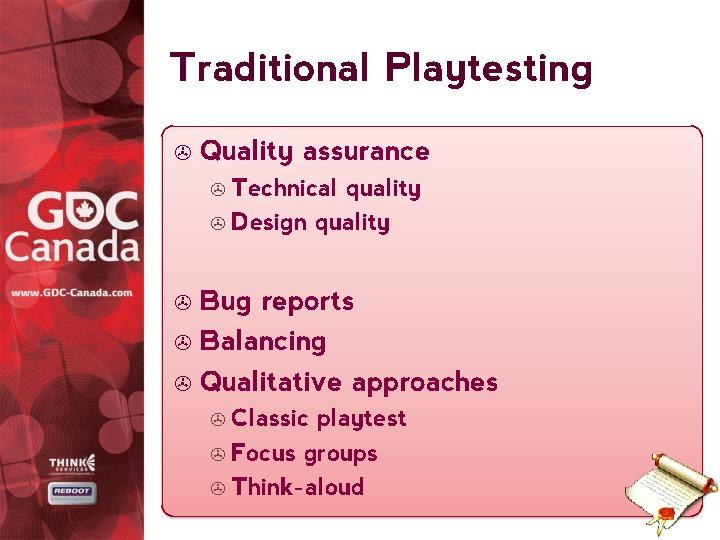subtitle: (166, 129, 487, 176), (166, 367, 503, 400), (168, 326, 355, 361), (171, 285, 382, 316)
title: (160, 37, 608, 98)
